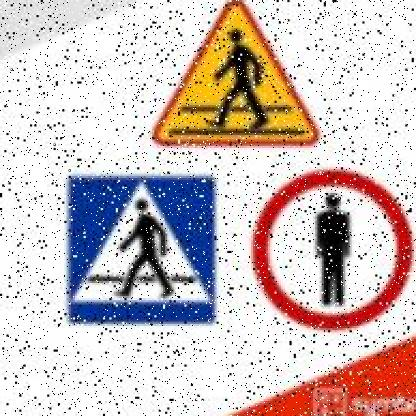Pedestrian Crossing: (60, 171, 223, 332)
